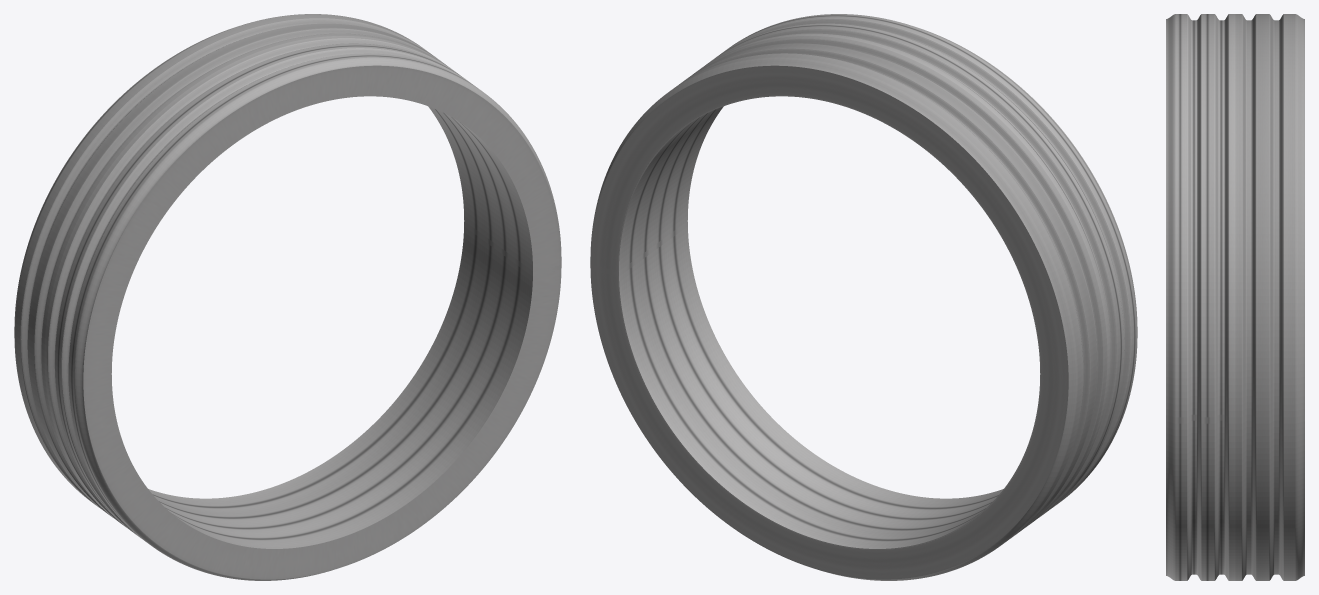
Rendered from silver_ring_old_old.glb.
3 views of the same model, side by side, from view 1: azimuth 30°, elevation 25°; view 2: azimuth 150°, elevation 25°; view 3: azimuth 270°, elevation 25° (orthographic).
Visible parts, largest first — view 1: GroovedSilverRing; view 2: GroovedSilverRing; view 3: GroovedSilverRing.
Part boxes in pixels (x1,y1,x2,y2): GroovedSilverRing: (14,14,561,580); GroovedSilverRing: (590,14,1137,580); GroovedSilverRing: (1166,14,1304,580).
Bounding box in the file's own units: 2 × 2 × 0.49.
Materials: 1 (1 with a texture image).
